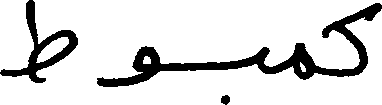ب: (220, 45, 277, 104)
ط: (0, 0, 77, 84)
ك: (333, 0, 380, 76)
م: (294, 40, 315, 79)
و: (98, 43, 160, 87)
